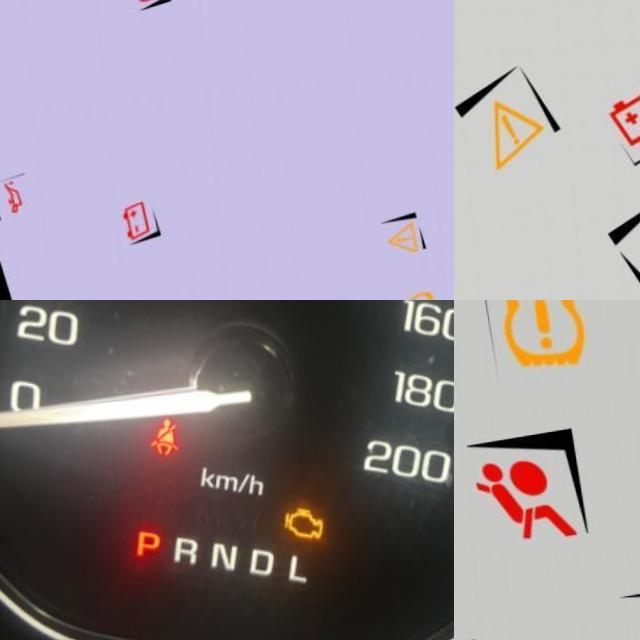Seat Belt: (139, 418, 180, 469)
